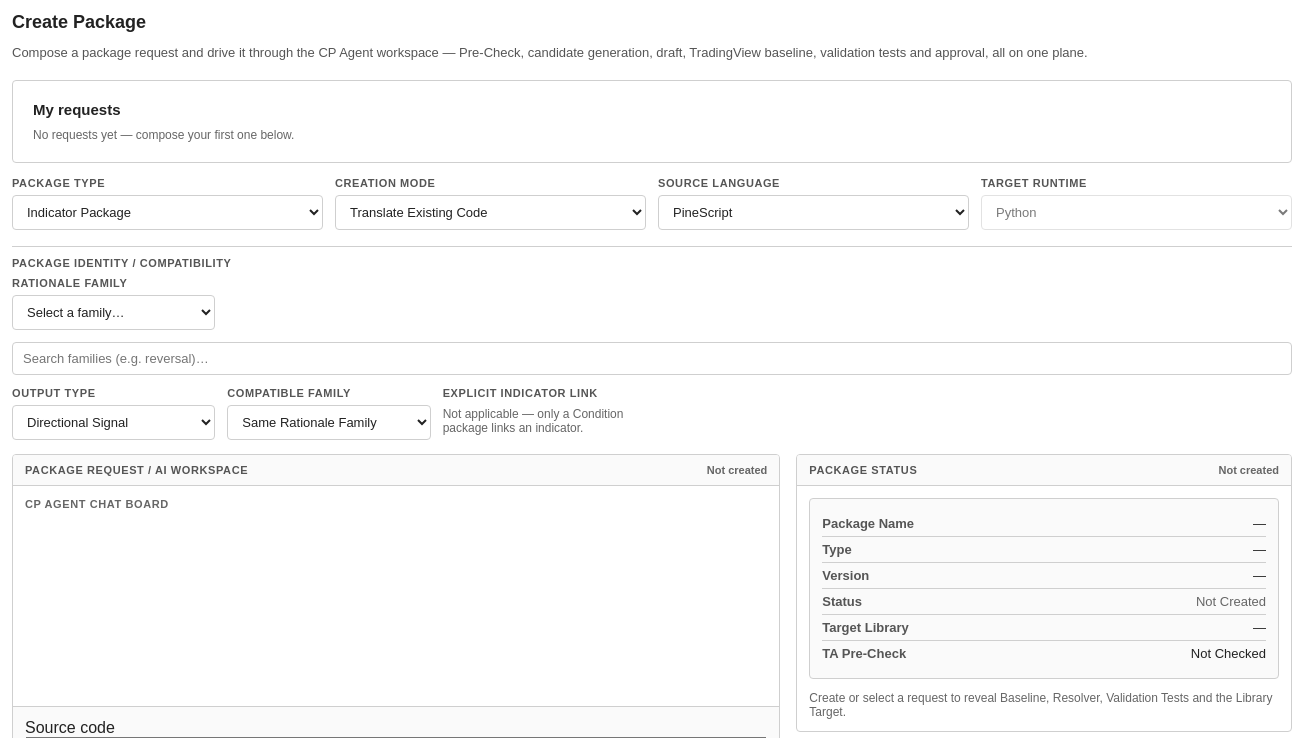
Scenario: Create Package — Rationale Family suggestion chips › an unmatched query says so and offers no create-on-the-fly path
Type "funding exhaustion" into the field named "Search rationale families" at x=652, y=358, box 12,342 -> 1292,375
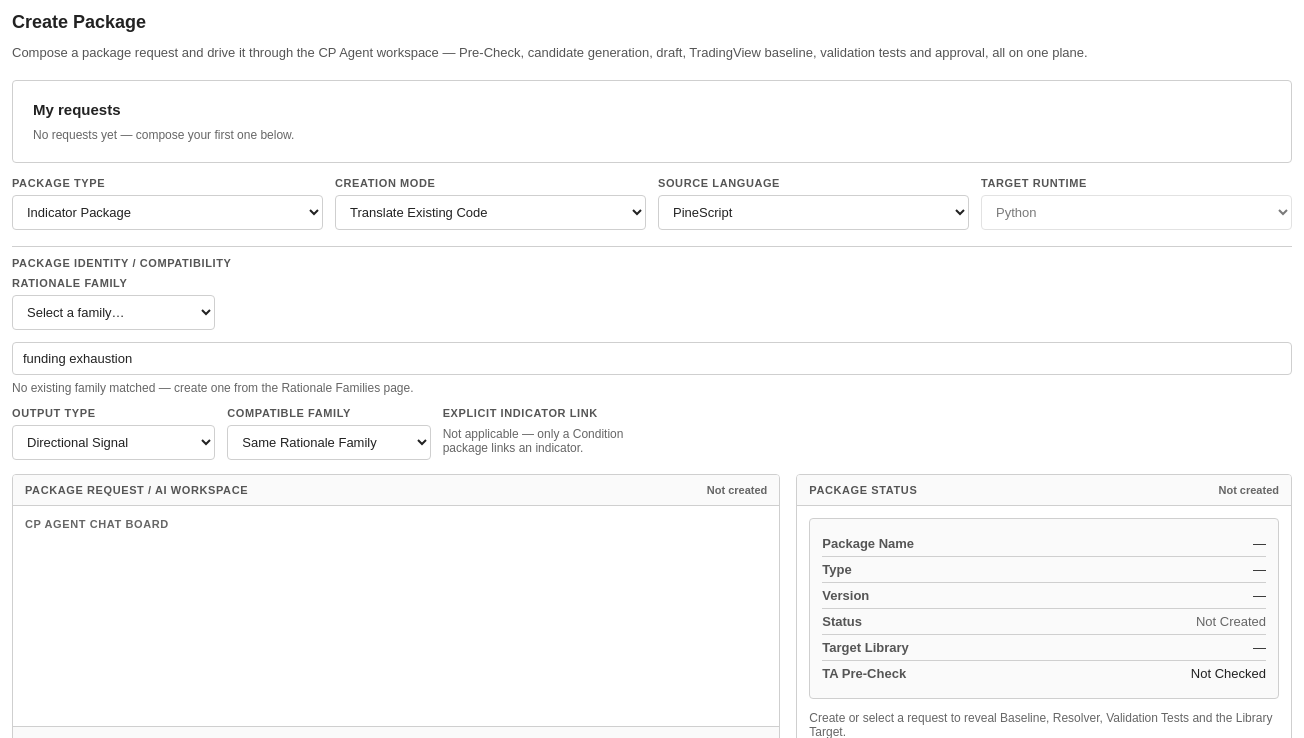
expect the text "No existing family matched" is shown: met, box 12,381 -> 414,395
